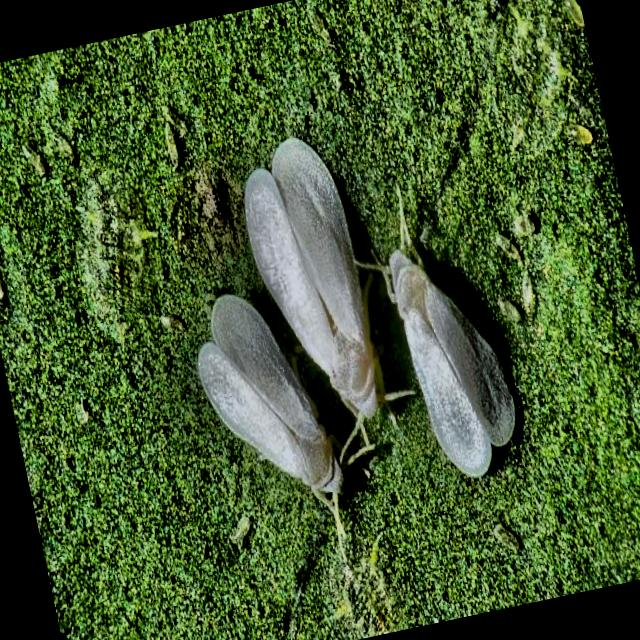egg: (495, 235, 533, 320), (491, 521, 519, 552), (21, 144, 44, 176), (230, 515, 249, 548), (164, 123, 177, 168), (510, 214, 535, 237), (158, 313, 185, 333), (565, 0, 584, 27), (572, 124, 592, 144)
whitefly: (382, 191, 513, 474), (244, 138, 376, 417), (196, 294, 342, 493)
